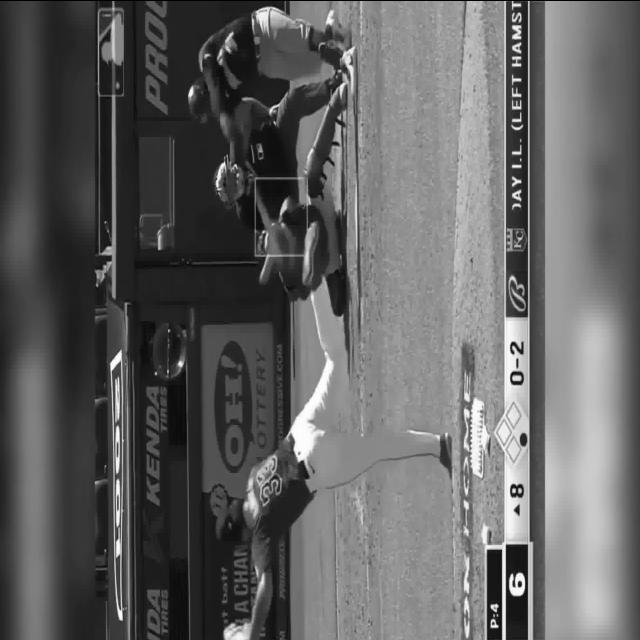baseball: (260, 266, 270, 278)
baseball_glove: (222, 620, 255, 640)
shoe: (324, 10, 350, 50), (326, 269, 346, 316), (340, 45, 358, 97), (439, 432, 452, 480), (328, 83, 346, 113), (328, 70, 342, 96)
